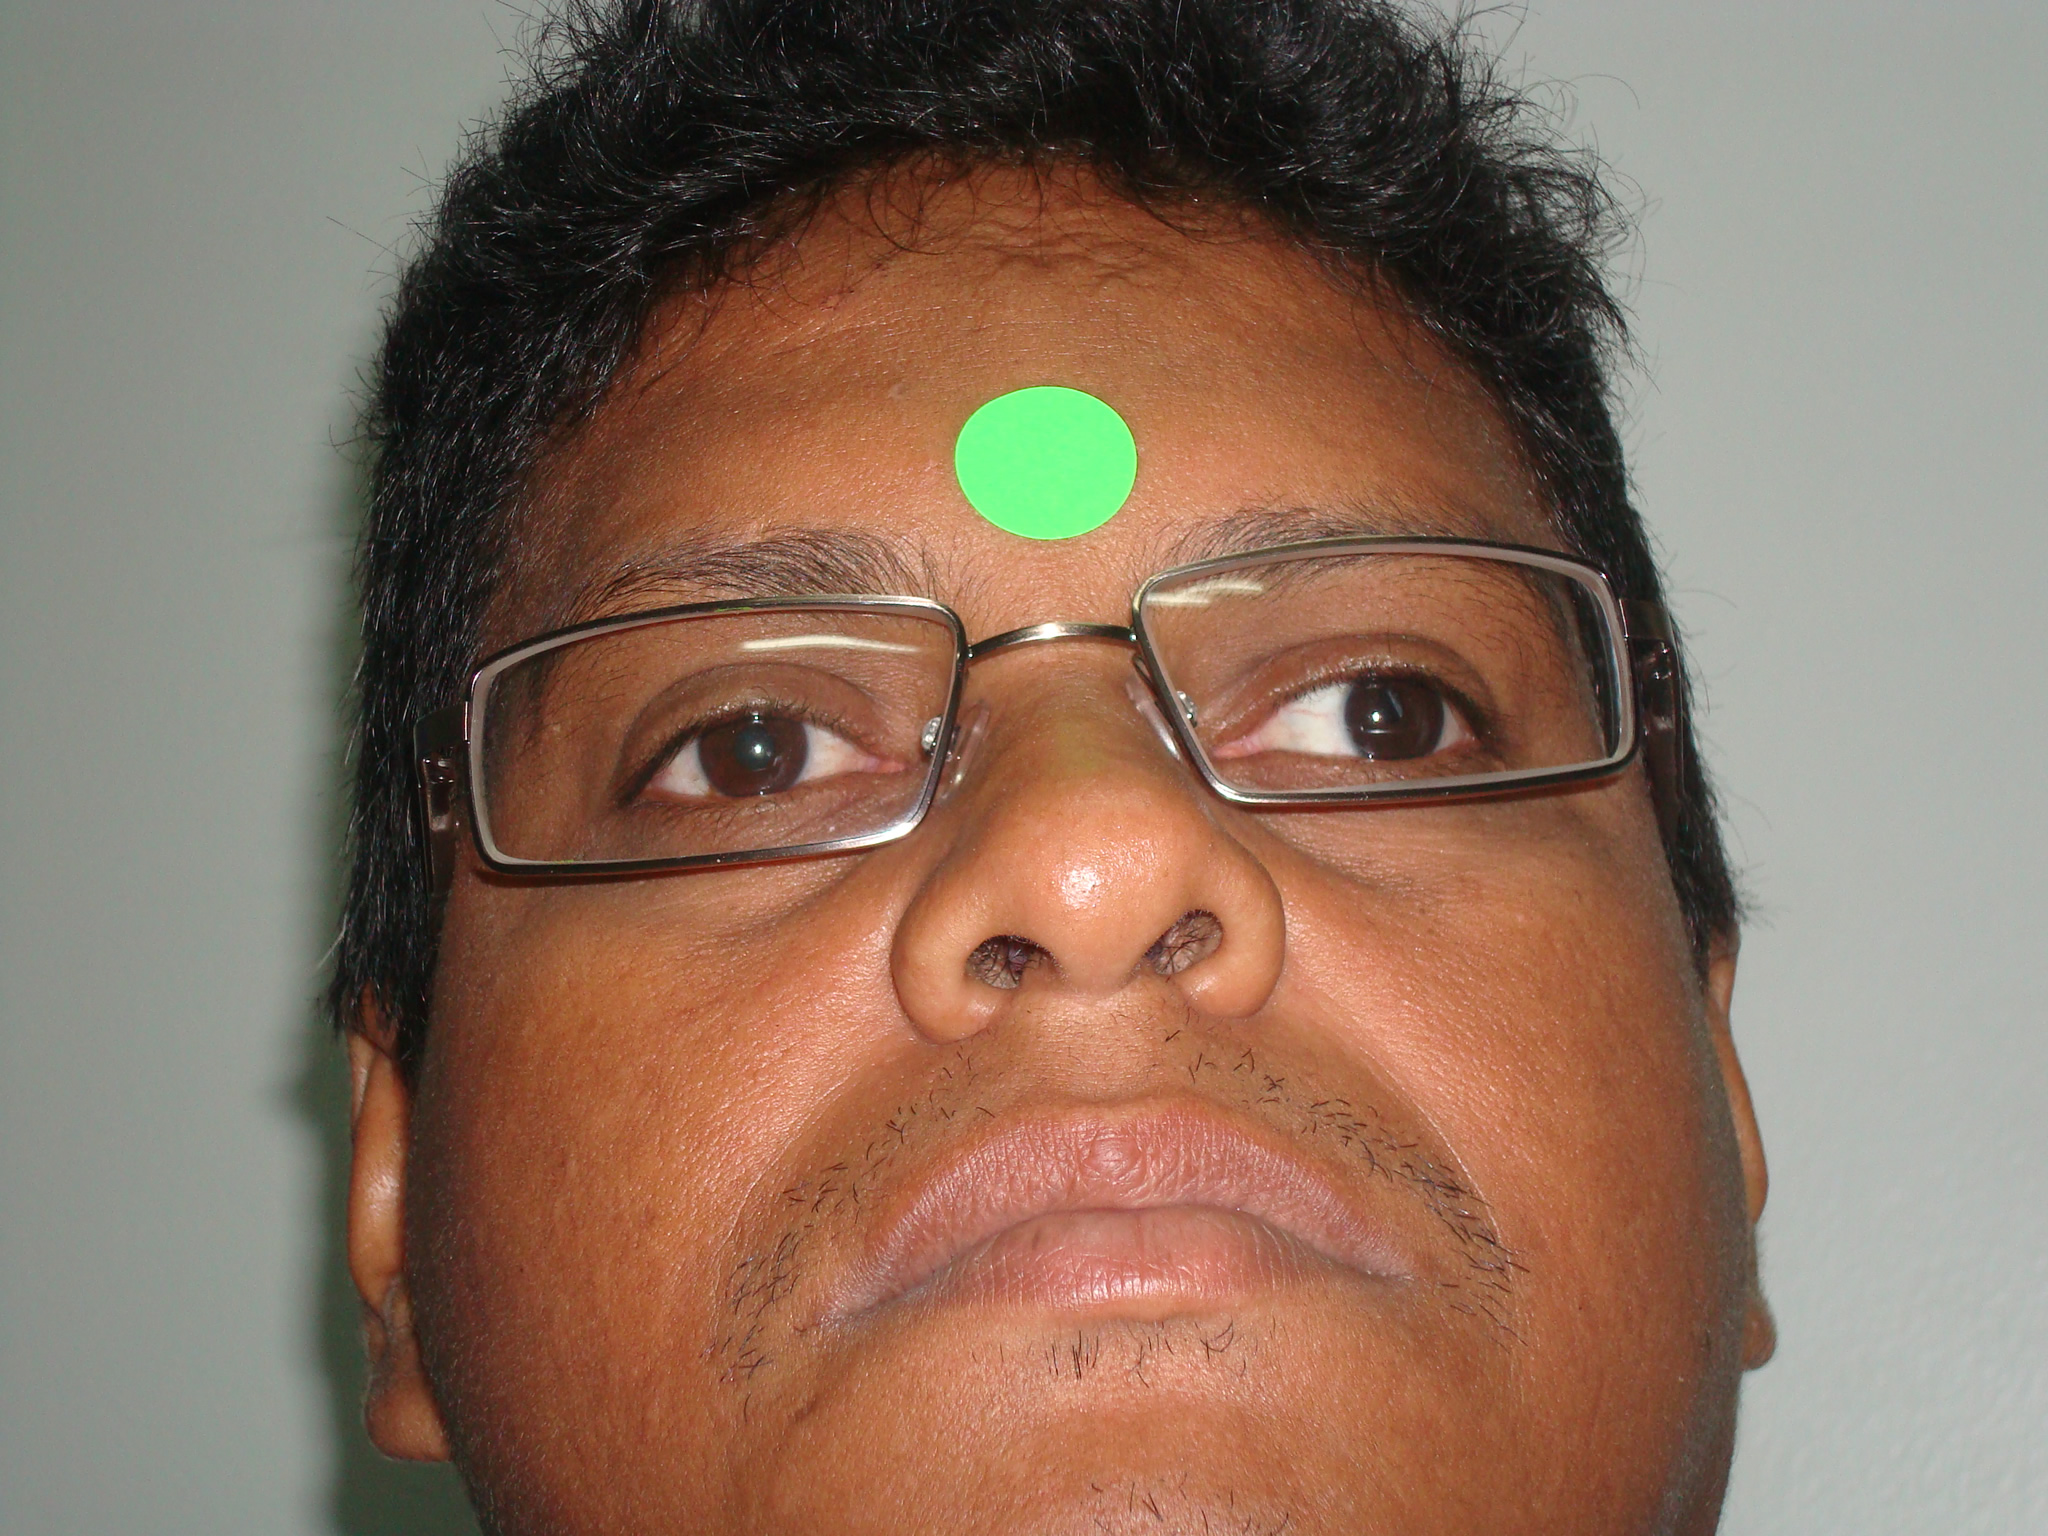flash: (750, 739, 768, 757), (1367, 708, 1384, 724)
limbo: (700, 697, 811, 795), (1347, 660, 1437, 755)
